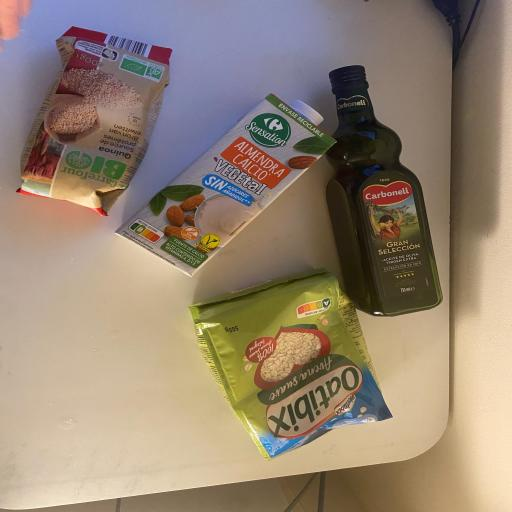almond_milk: (115, 90, 340, 278)
oats: (190, 271, 386, 457)
olive_oil: (321, 62, 452, 318)
quinoa: (19, 29, 169, 209)
